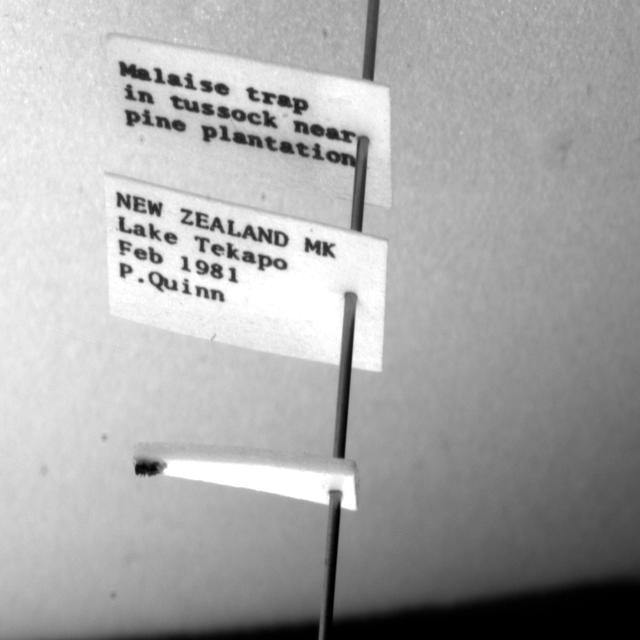typed_label: (105, 172, 388, 371), (108, 34, 392, 208)
